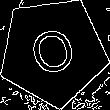O_SE: (23, 19, 83, 84)
